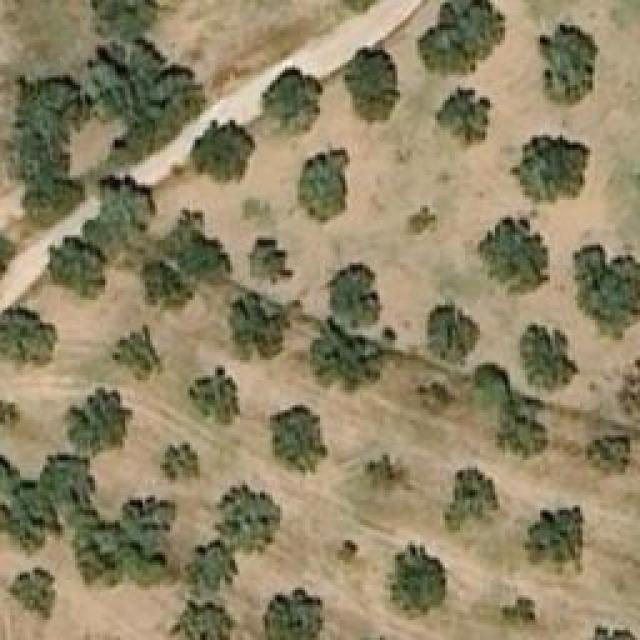Tree: (85, 35, 191, 147), (473, 362, 548, 460), (10, 128, 82, 222), (417, 0, 504, 72), (575, 245, 640, 340), (475, 218, 550, 298), (538, 15, 601, 108), (513, 135, 588, 203), (385, 540, 448, 618), (168, 208, 231, 283), (83, 520, 156, 583), (523, 505, 586, 575), (8, 73, 86, 128), (520, 325, 583, 393), (342, 50, 400, 123), (0, 310, 58, 383), (308, 330, 381, 388), (268, 405, 328, 475), (298, 142, 351, 220), (323, 262, 383, 330), (53, 235, 113, 298), (217, 488, 275, 551), (195, 118, 255, 178), (428, 298, 483, 363), (263, 70, 323, 128), (93, 175, 153, 233), (445, 468, 498, 531), (230, 298, 283, 361), (438, 85, 493, 145), (73, 390, 128, 448), (262, 587, 322, 640), (188, 367, 241, 425), (113, 325, 163, 383), (90, 0, 164, 38), (168, 600, 233, 640), (37, 458, 85, 508), (140, 263, 188, 313), (125, 490, 173, 540), (10, 568, 55, 621), (248, 237, 293, 285), (188, 545, 231, 588), (160, 443, 200, 483), (617, 357, 640, 424), (490, 598, 540, 628), (365, 455, 398, 488), (410, 208, 435, 233), (0, 402, 20, 430), (338, 540, 358, 563)
